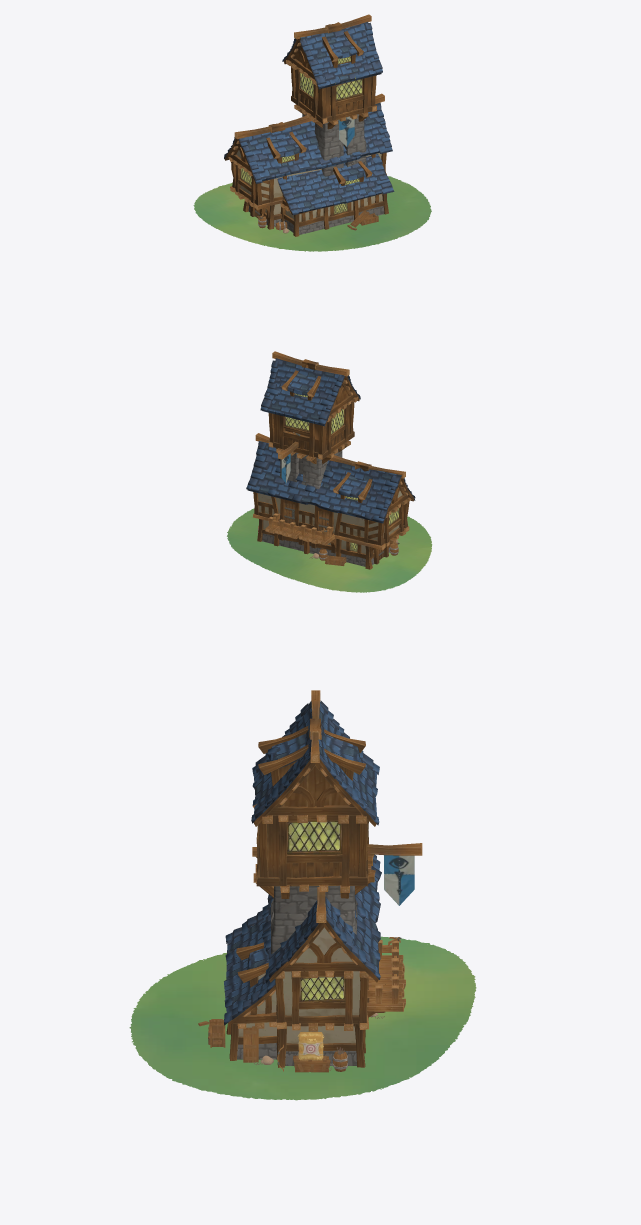
Rendered from watchtower.glb.
The picture shows the model from 3 angles, top to bottom: view 1: azimuth 30°, elevation 25°; view 2: azimuth 150°, elevation 25°; view 3: azimuth 270°, elevation 25°; orthographic projection. The views are drawn at different scales.
Visible parts, largest first — view 1: Ground Plane002; view 2: Ground Plane002; view 3: Ground Plane002.
Part boxes in pixels (<box>): Ground Plane002: <box>193,14,431,251</box>; Ground Plane002: <box>227,351,432,592</box>; Ground Plane002: <box>129,690,476,1100</box>.
Bounding box in the file's own units: 4290 × 1752 × 2989.
6 materials, 6 textured.
